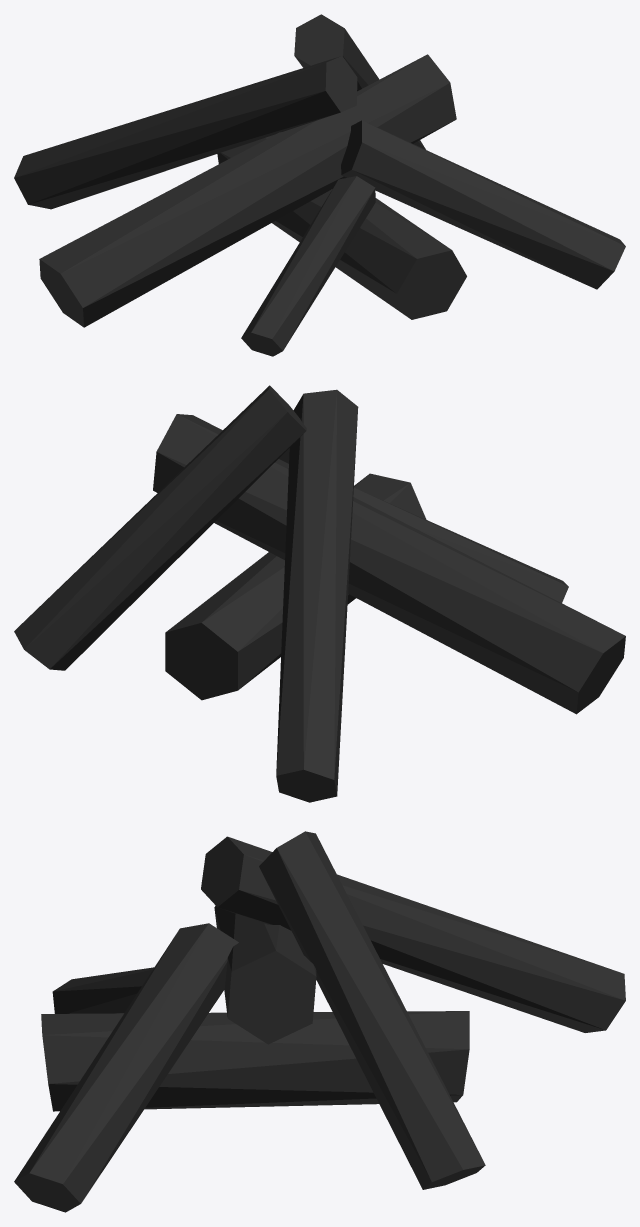
Rendered from camp_fire.fbx.
3 views of the same model, one above another, from view 1: azimuth 30°, elevation 25°; view 2: azimuth 150°, elevation 25°; view 3: azimuth 270°, elevation 25° (orthographic). The views are drawn at different scales.
Visible parts, largest first — view 1: Cylinder, Cylinder.002, Cylinder.004, Cylinder.001, Cylinder.005, Cylinder.003; view 2: Cylinder, Cylinder.002, Cylinder.003, Cylinder.001, Cylinder.005; view 3: Cylinder.003, Cylinder.002, Cylinder.001, Cylinder.004, Cylinder, Cylinder.005.
Part boxes in pixels (x1=…): Cylinder: x1=39, y1=54, x2=456, y2=327; Cylinder.002: x1=14, y1=56, x2=357, y2=209; Cylinder.004: x1=341, y1=120, x2=625, y2=289; Cylinder.001: x1=217, y1=134, x2=466, y2=319; Cylinder.005: x1=241, y1=176, x2=375, y2=356; Cylinder.003: x1=294, y1=14, x2=425, y2=149; Cylinder: x1=153, y1=414, x2=625, y2=714; Cylinder.002: x1=276, y1=389, x2=358, y2=802; Cylinder.003: x1=14, y1=385, x2=306, y2=670; Cylinder.001: x1=165, y1=473, x2=426, y2=700; Cylinder.005: x1=353, y1=487, x2=568, y2=602; Cylinder.003: x1=259, y1=831, x2=485, y2=1189; Cylinder.002: x1=201, y1=836, x2=625, y2=1032; Cylinder.001: x1=41, y1=1011, x2=469, y2=1111; Cylinder.004: x1=14, y1=923, x2=238, y2=1212; Cylinder: x1=214, y1=905, x2=316, y2=1044; Cylinder.005: x1=52, y1=967, x2=154, y2=1013.
Size of the model in its own units: 2.96 by 1.42 by 2.7.
